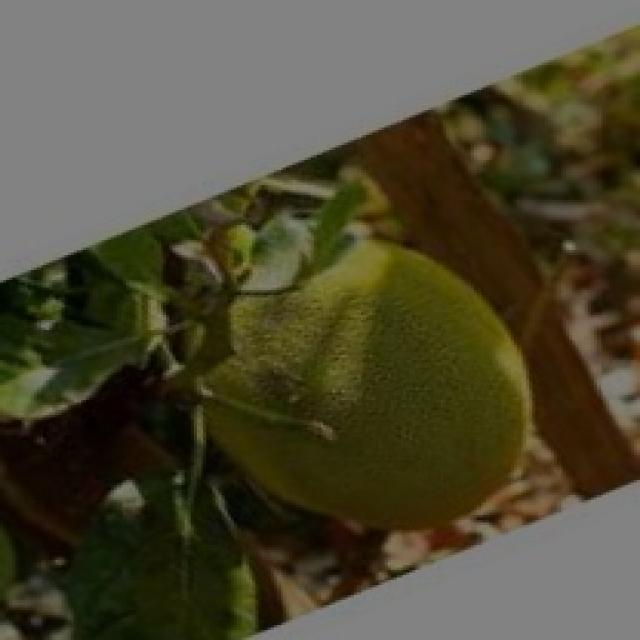Fruit: (182, 202, 569, 570)
